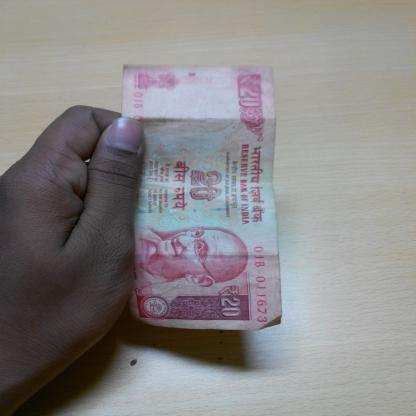Old20Front: (121, 65, 282, 330)
